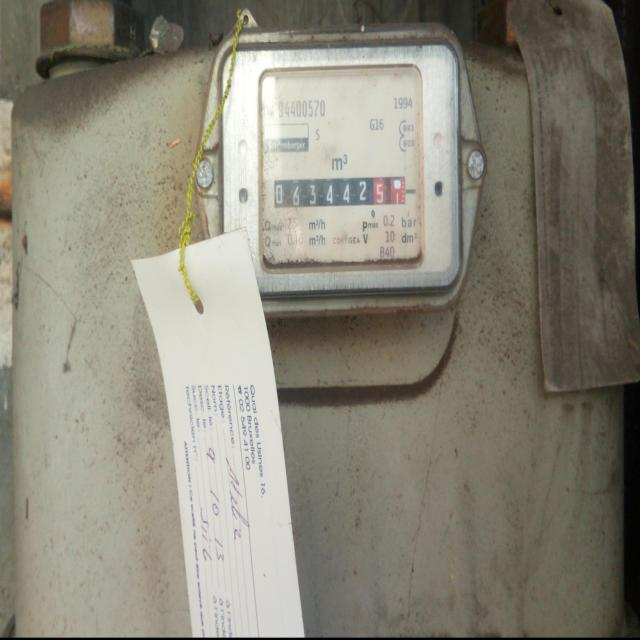gaz_meter: (258, 63, 430, 274)
indication: (273, 178, 406, 211)
